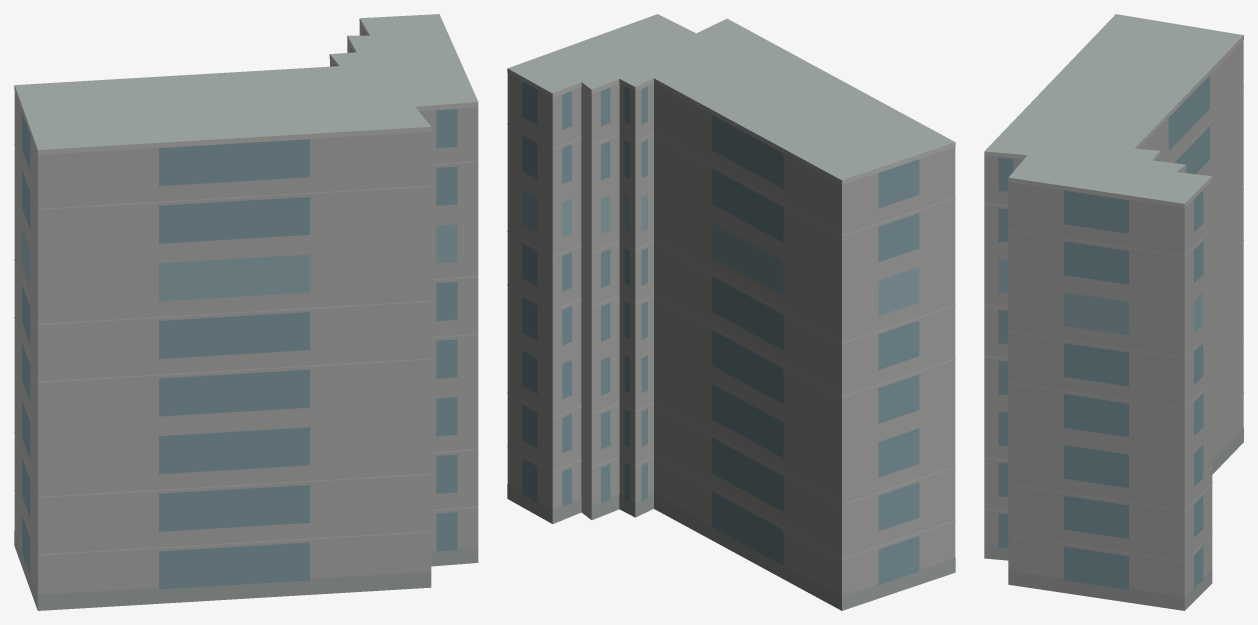
Rendered from survey-upis-33045054.glb.
The picture shows the model from 3 angles, left to right: view 1: azimuth 30°, elevation 25°; view 2: azimuth 150°, elevation 25°; view 3: azimuth 270°, elevation 25°; orthographic projection. The views are drawn at different scales.
Parts seen in each view (by area): view 1: survey-upis-33045054.tmp; view 2: survey-upis-33045054.tmp; view 3: survey-upis-33045054.tmp.
Part boxes in pixels (x1,y1,x2,y2): survey-upis-33045054.tmp: [14, 14, 478, 610]; survey-upis-33045054.tmp: [507, 14, 955, 610]; survey-upis-33045054.tmp: [984, 14, 1243, 610].
Bounding box in the file's own units: 22.33 × 22.3 × 12.91.
